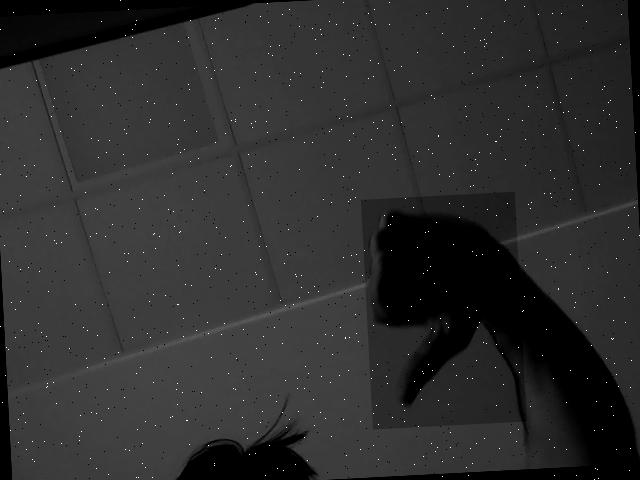bad: (361, 192, 527, 429)
